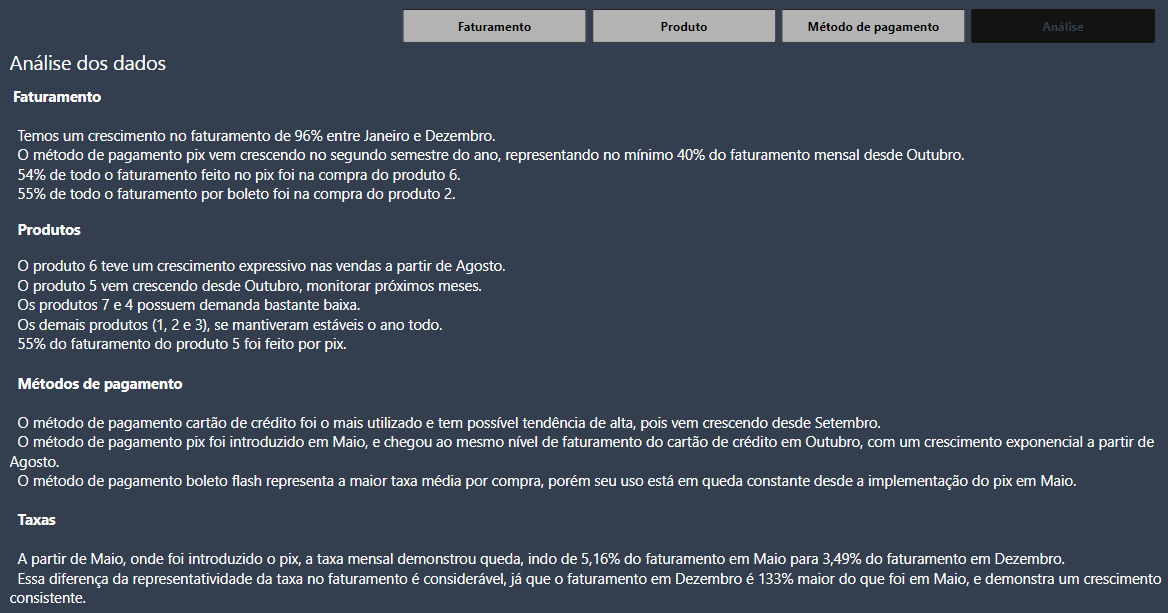

Layout of this report page (visuals, bound fields, positions):
{"tool":"powerbi","page":{"name":"Análise","canvas":[1280,720],"ordinal":3},"visuals":[{"type":"pageNavigator","box":[440.4,13,825.8,37.2],"z":0},{"type":"textbox","box":[6.5,50.2,200.8,42.1],"z":1000},{"type":"textbox","box":[6.5,92.3,1274.3,615.3],"z":2000}]}

Visuals, with their boxes on the page's 1280x720 design canvas (x1, y1, x2, y2). These are canvas units, not pixel positions in the 1168x613 screenshot, which may show the page scaled, cropped or inside an application window:
pageNavigator: (440,13,1266,50)
textbox: (6,50,207,92)
textbox: (6,92,1281,708)
